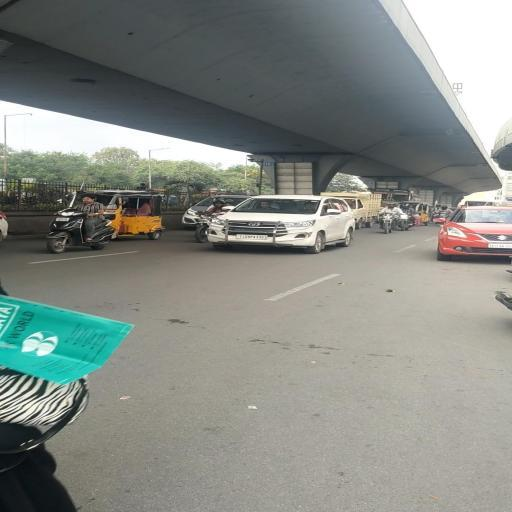helmet: (194, 198, 236, 244)
no helmet: (67, 183, 110, 223)
